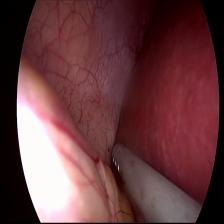Irrigator: (110, 139, 133, 187)
